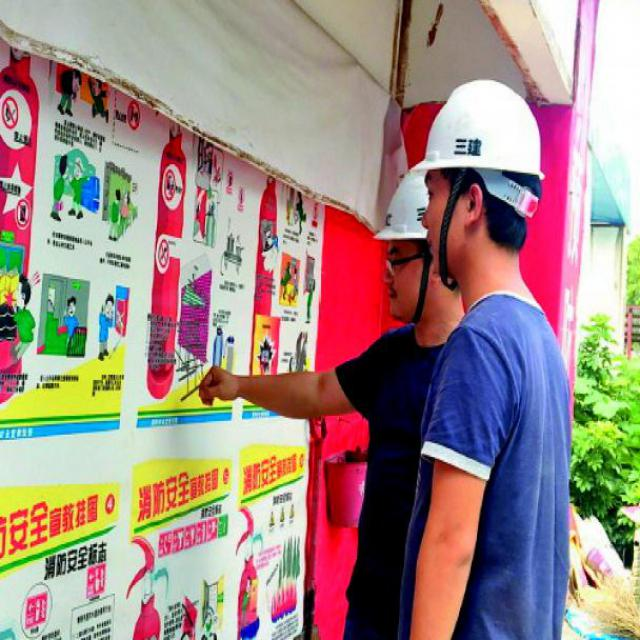helmet: (418, 73, 558, 290)
